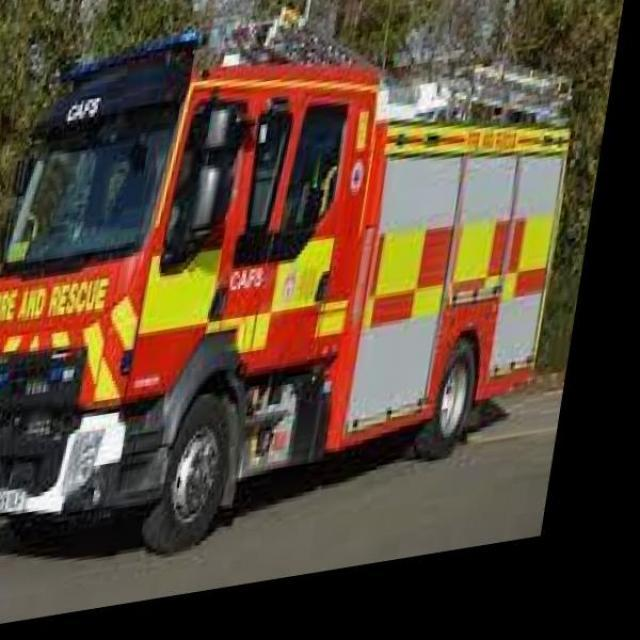emergency: (0, 8, 574, 556)
